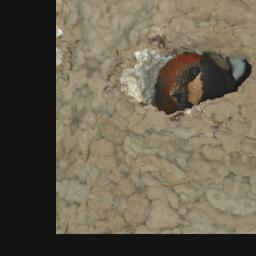Swallow: (147, 43, 243, 131)
